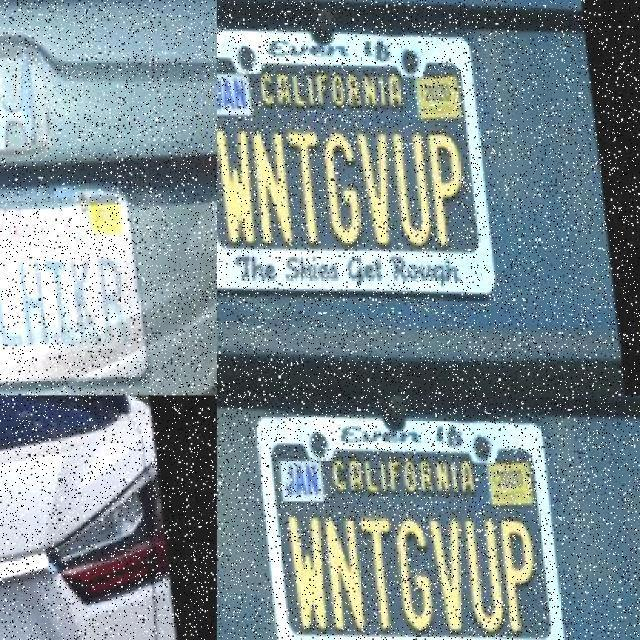LicensePlate: (217, 6, 494, 312), (246, 395, 569, 640), (0, 182, 143, 391)
